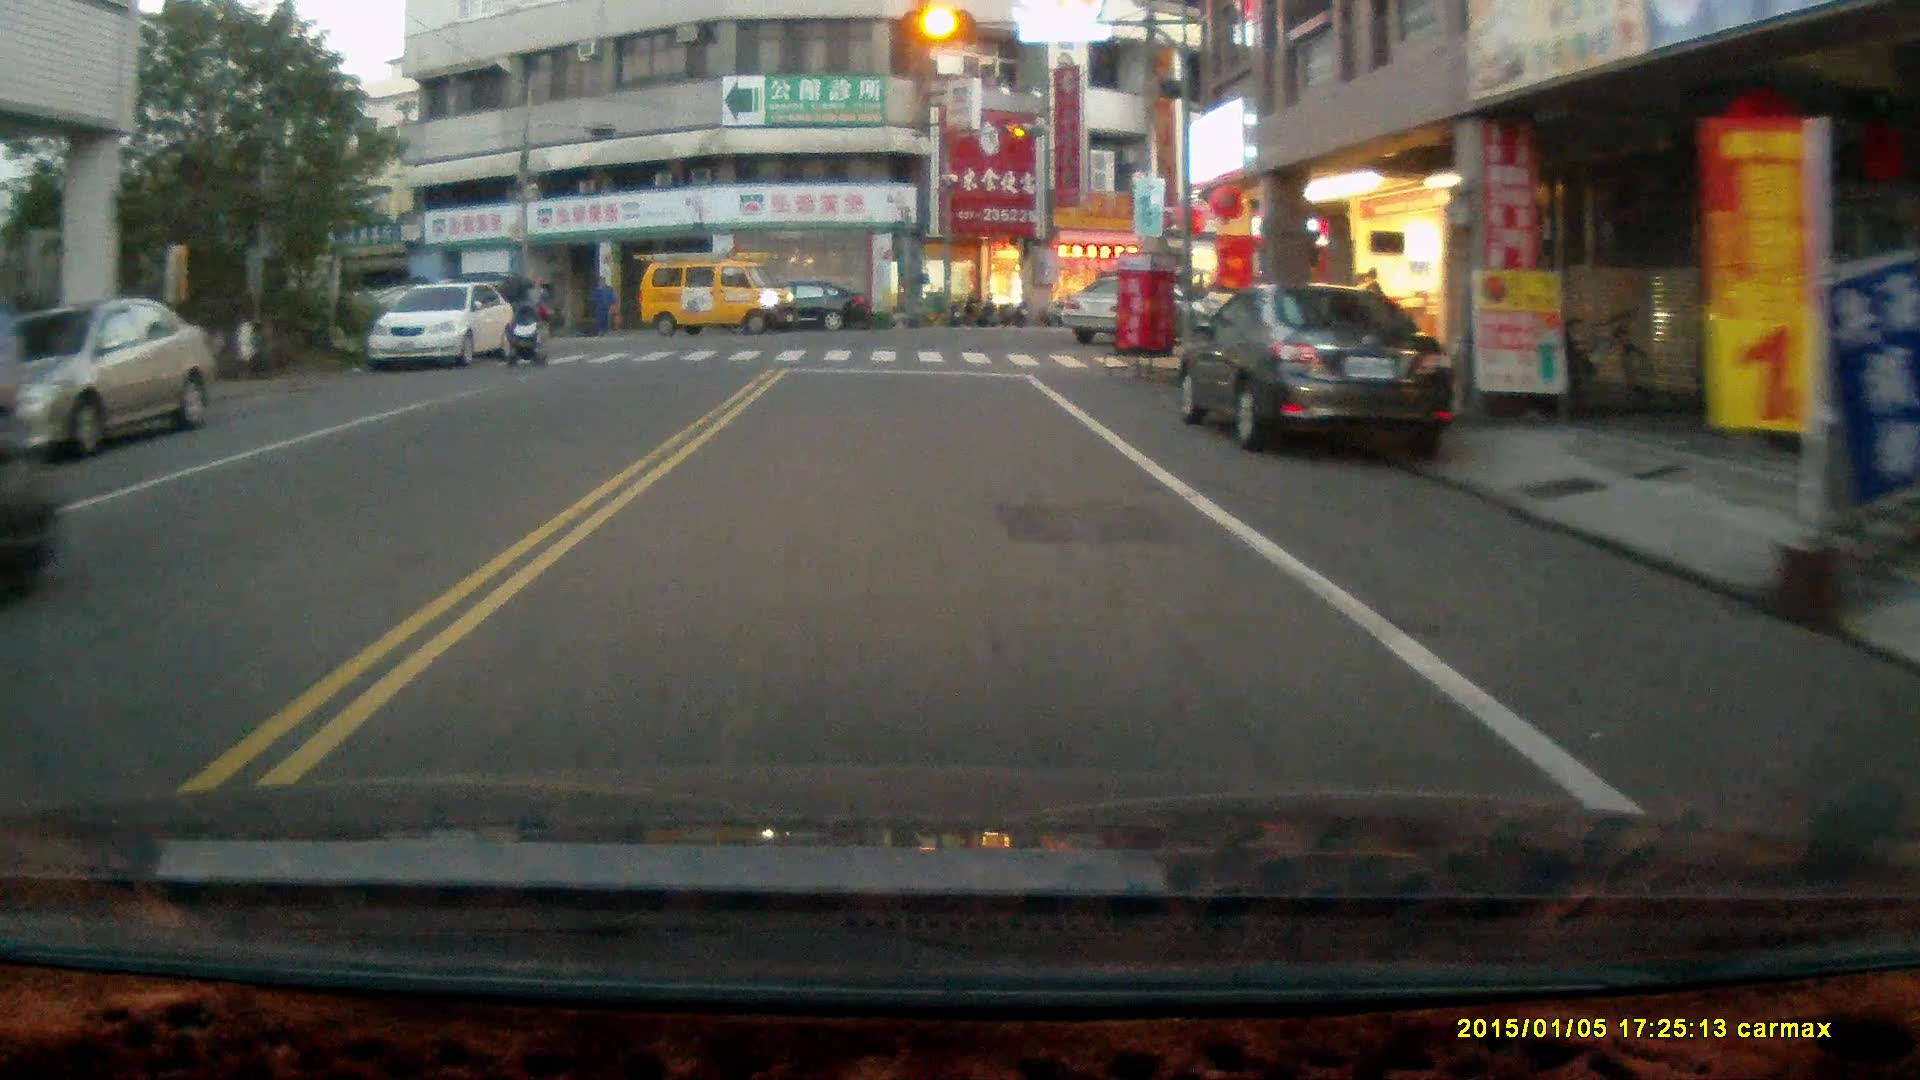pedestrian: (521, 273, 553, 349), (591, 274, 613, 334)
rider: (501, 302, 553, 371)
vehicle: (1176, 284, 1457, 454), (1, 296, 224, 459), (638, 250, 801, 331), (372, 288, 517, 377), (1055, 276, 1198, 350), (741, 282, 867, 335)
